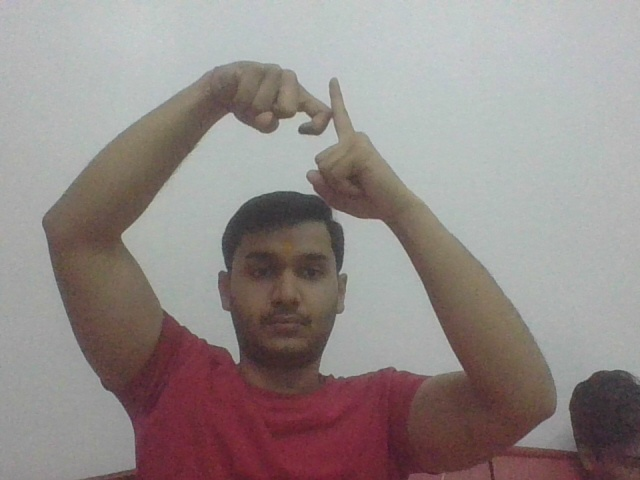K: (274, 68, 364, 154)
